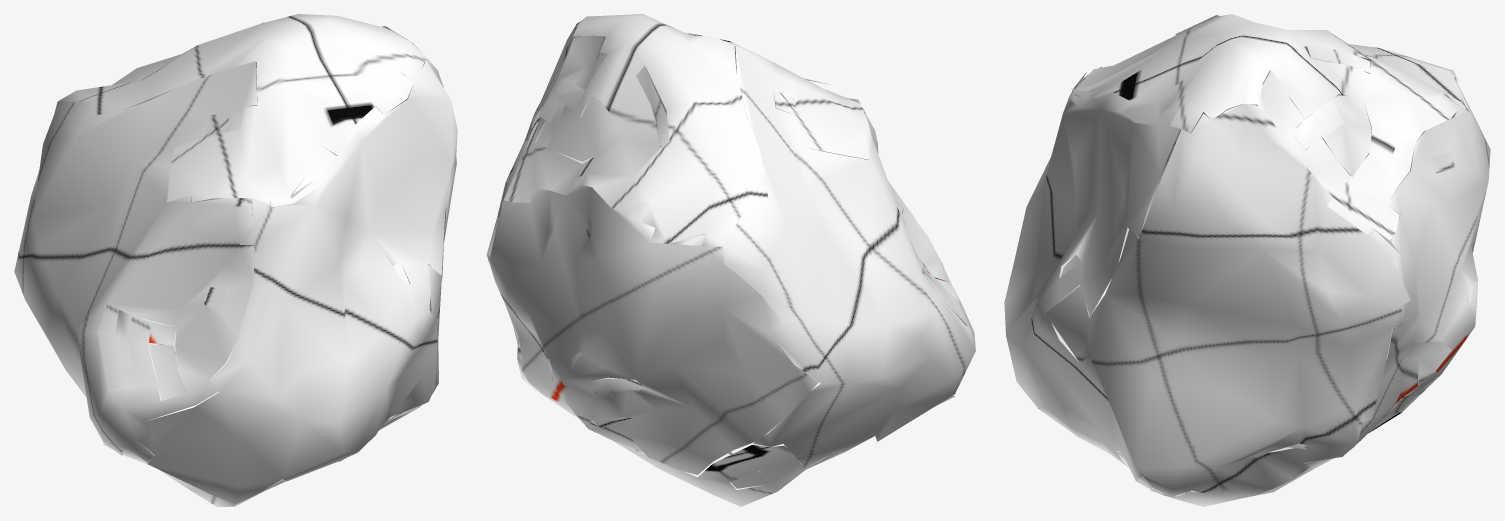
File: asteroide8.obj
3 views of the same model, side by side, from view 1: azimuth 30°, elevation 25°; view 2: azimuth 150°, elevation 25°; view 3: azimuth 270°, elevation 25° (orthographic). The views are drawn at different scales.
Parts seen in each view (by area): view 1: Asteroid_no_8_Material_#3_0; view 2: Asteroid_no_8_Material_#3_0; view 3: Asteroid_no_8_Material_#3_0.
Boxes of the visible parts, left/top/right/bottom form: Asteroid_no_8_Material_#3_0: left=14, top=14, right=457, bottom=506; Asteroid_no_8_Material_#3_0: left=486, top=14, right=975, bottom=506; Asteroid_no_8_Material_#3_0: left=1004, top=14, right=1490, bottom=506.
Bounding box in the file's own units: 0.685 × 0.775 × 0.6821.
